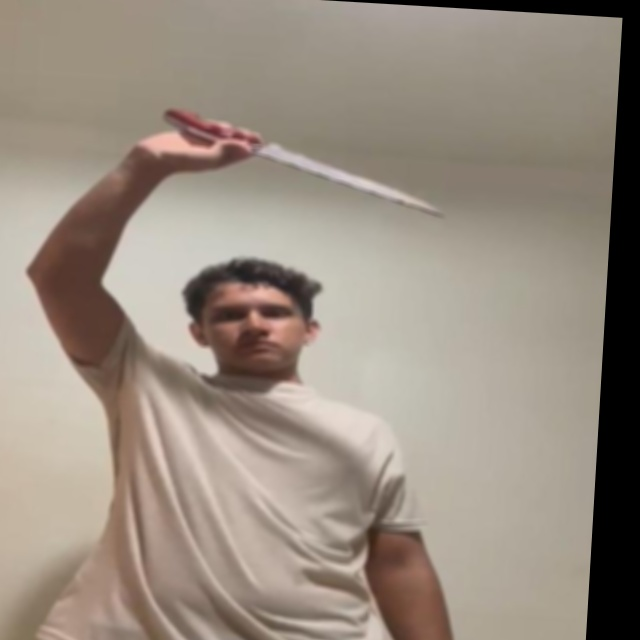Sharp-Object: (255, 137, 443, 216)
